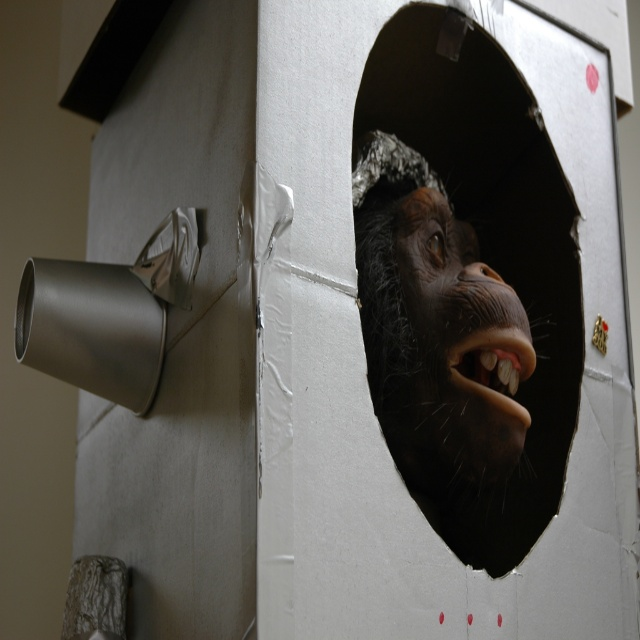Monkey: (354, 126, 538, 490)
